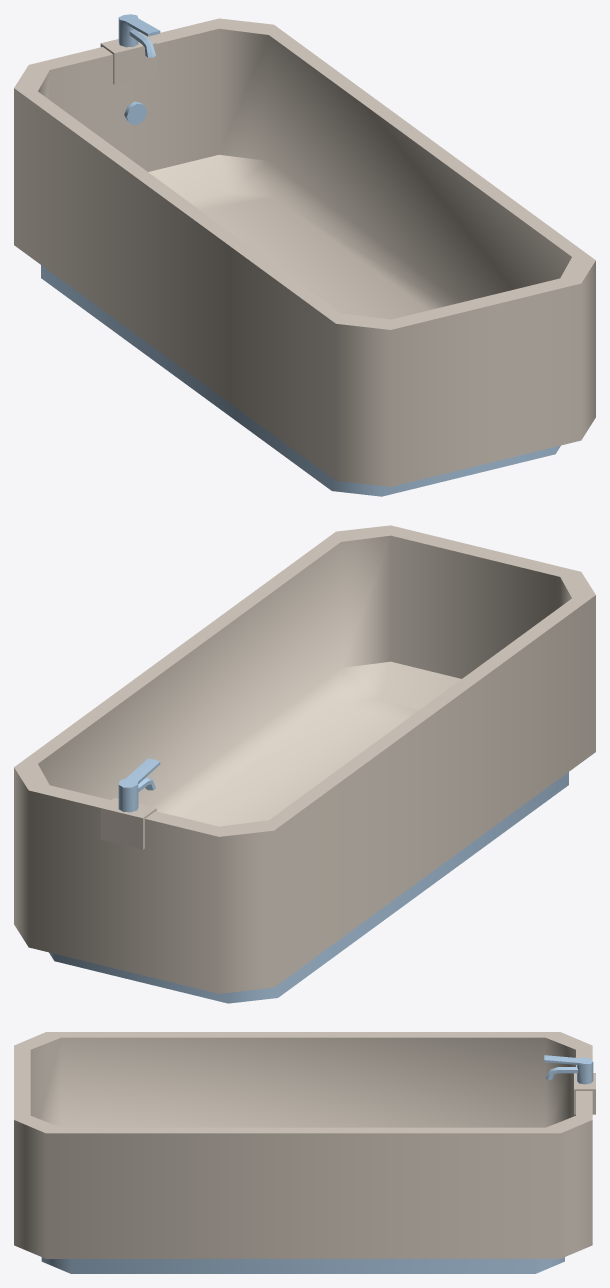
Rendered from bathtub.glb.
The picture shows the model from 3 angles, top to bottom: view 1: azimuth 30°, elevation 25°; view 2: azimuth 150°, elevation 25°; view 3: azimuth 270°, elevation 25°; orthographic projection. The views are drawn at different scales.
Parts seen in each view (by area): view 1: Bathroom_Bathtub; view 2: Bathroom_Bathtub; view 3: Bathroom_Bathtub.
Boxes of the visible parts, x1=… form: Bathroom_Bathtub: x1=14, y1=14, x2=595, y2=496; Bathroom_Bathtub: x1=14, y1=525, x2=595, y2=1003; Bathroom_Bathtub: x1=14, y1=1032, x2=595, y2=1273.
Bounding box in the file's own units: 1.61 × 1.26 × 3.9.
